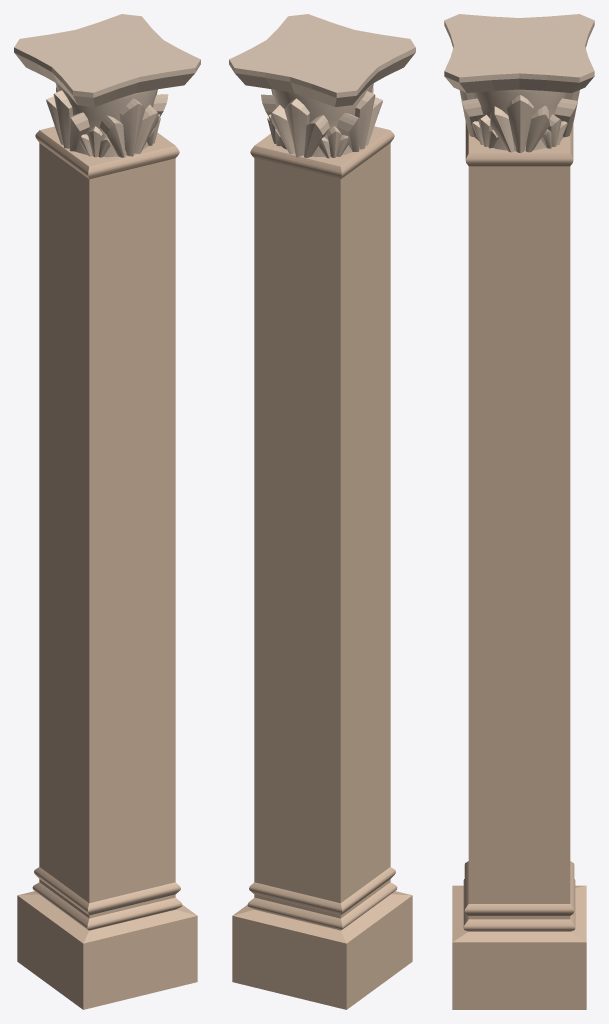
The model's file is BC_Pillar_B_01.fbx.
3 renders of one model, left to right at view 1: azimuth 30°, elevation 25°; view 2: azimuth 150°, elevation 25°; view 3: azimuth 270°, elevation 25°, orthographic.
Parts seen in each view (by area): view 1: BC_Pillar_B_01; view 2: BC_Pillar_B_01; view 3: BC_Pillar_B_01.
Part boxes in pixels (x1,y1,x2,y2): BC_Pillar_B_01: (14,14,200,1009); BC_Pillar_B_01: (229,14,415,1009); BC_Pillar_B_01: (444,14,594,1009).
Size of the model in its own units: 148 by 1017 by 148.
